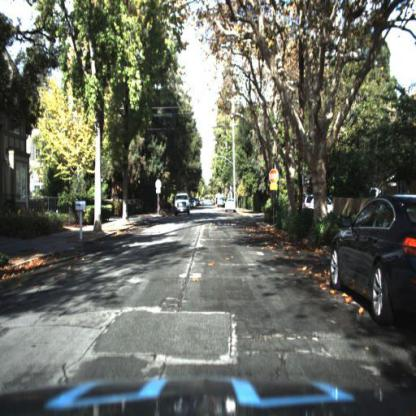car: (326, 191, 416, 333), (171, 192, 190, 220), (223, 197, 238, 215), (221, 197, 235, 215)
